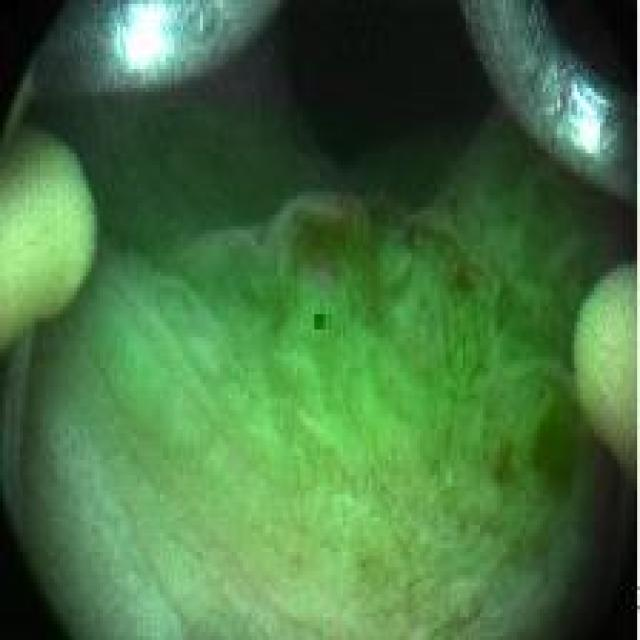color misalignment: (306, 305, 338, 339)
contrast: (240, 6, 516, 253)
instrument: (465, 12, 634, 212), (34, 5, 270, 93), (5, 126, 92, 361), (571, 253, 629, 500)
specularity: (118, 1, 176, 78), (569, 79, 605, 158)
